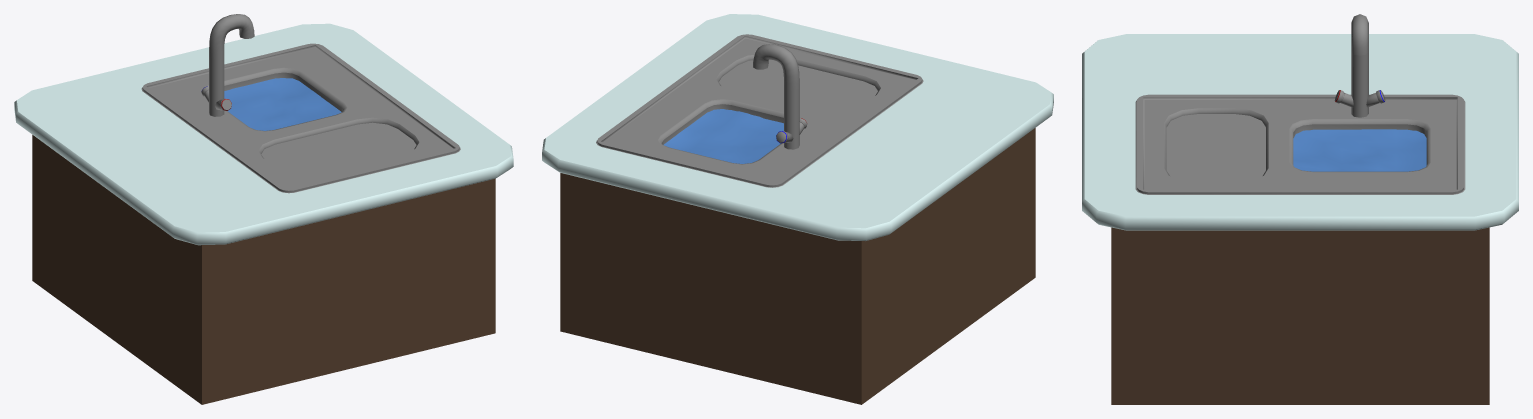
Rendered from Counter 2 sink.fbx.
3 views of the same model, side by side, from view 1: azimuth 30°, elevation 25°; view 2: azimuth 150°, elevation 25°; view 3: azimuth 270°, elevation 25° (orthographic). The views are drawn at different scales.
Visible parts, largest first — view 1: Cube, Cube.001, Cube.002, Plane, Cylinder; view 2: Cube, Cube.001, Cube.002, Plane, Cylinder; view 3: Cube, Cube.001, Cube.002, Plane, Cylinder.
Boxes of the visible parts, box(x1,y1,x2,y2) form: Cube: box(32, 135, 495, 404); Cube.001: box(14, 23, 513, 245); Cube.002: box(141, 43, 460, 193); Plane: box(224, 78, 341, 130); Cylinder: box(209, 14, 254, 116); Cube: box(560, 128, 1035, 404); Cube.001: box(542, 14, 1053, 240); Cube.002: box(596, 34, 923, 187); Plane: box(664, 109, 783, 163); Cylinder: box(753, 44, 799, 149); Cube: box(1111, 227, 1489, 404); Cube.001: box(1082, 34, 1518, 230); Cube.002: box(1135, 94, 1465, 194); Plane: box(1293, 129, 1426, 171); Cylinder: box(1351, 14, 1368, 117).
Size of the model in its own units: 231 by 178 by 231.
